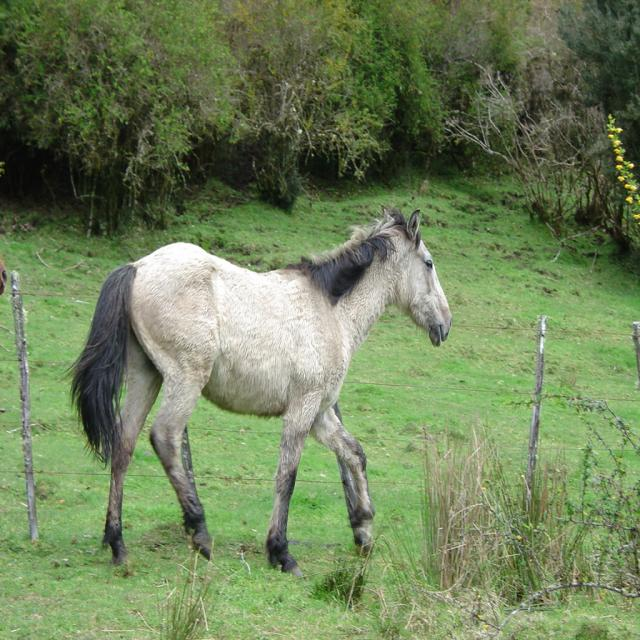Horse: (0, 255, 7, 297)
